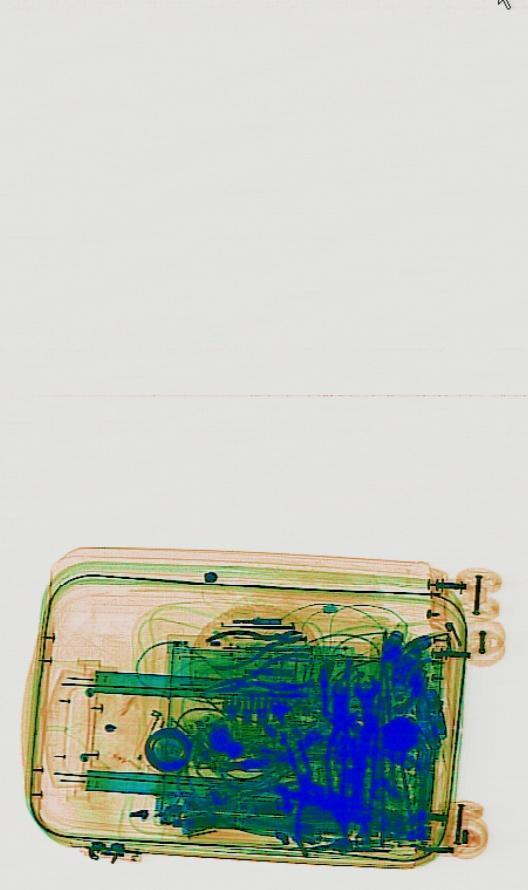Pliers: (204, 640, 310, 716), (203, 615, 304, 674)
Wrench: (352, 674, 383, 763)
